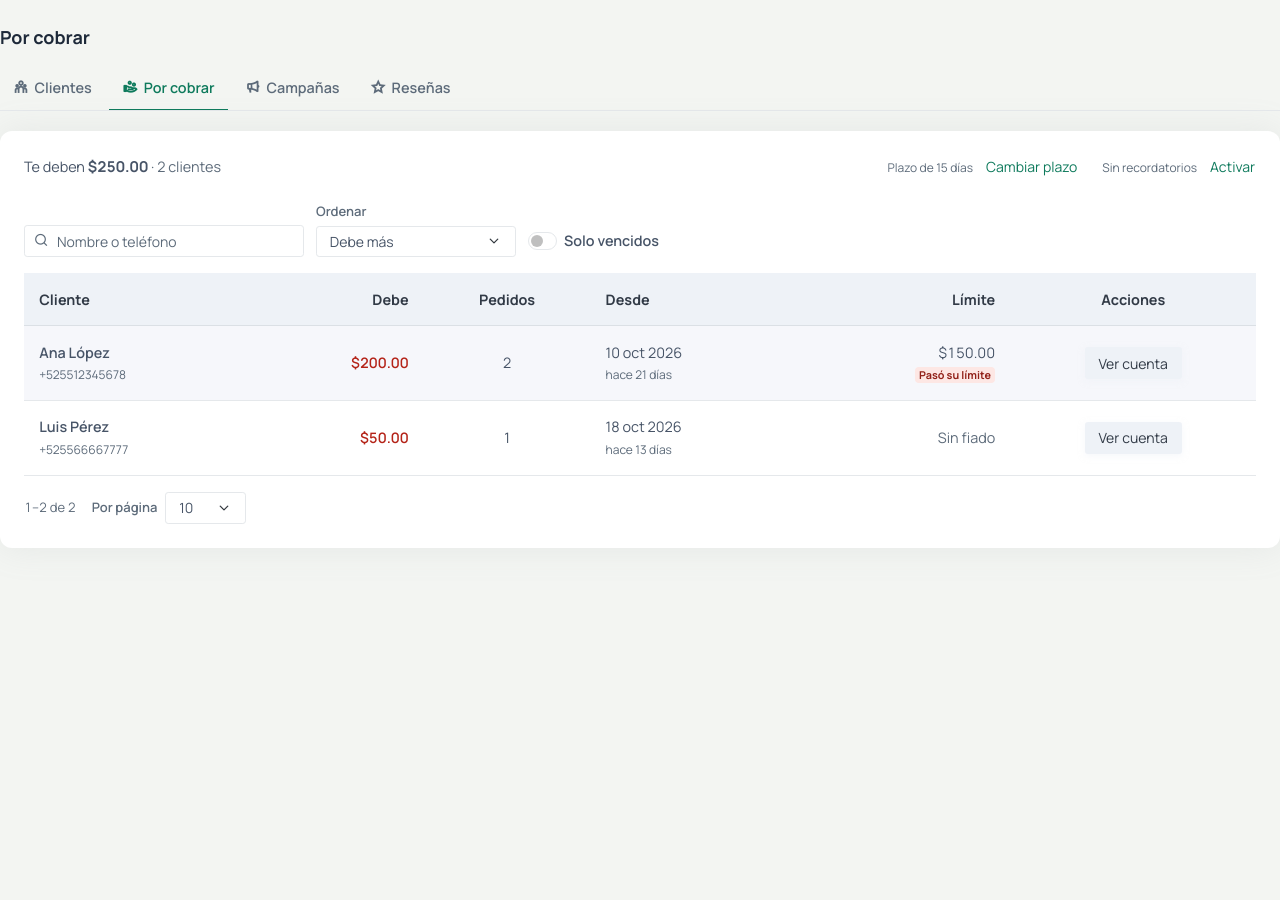
Scenario: ReceivablesPage › takes «Solo vencidos» off when the owner takes the term away, so the list does not stay empty
The image size is (1280, 900).
Click the switch labelled "Solo vencidos" at (542, 241), box [528,232,557,250]
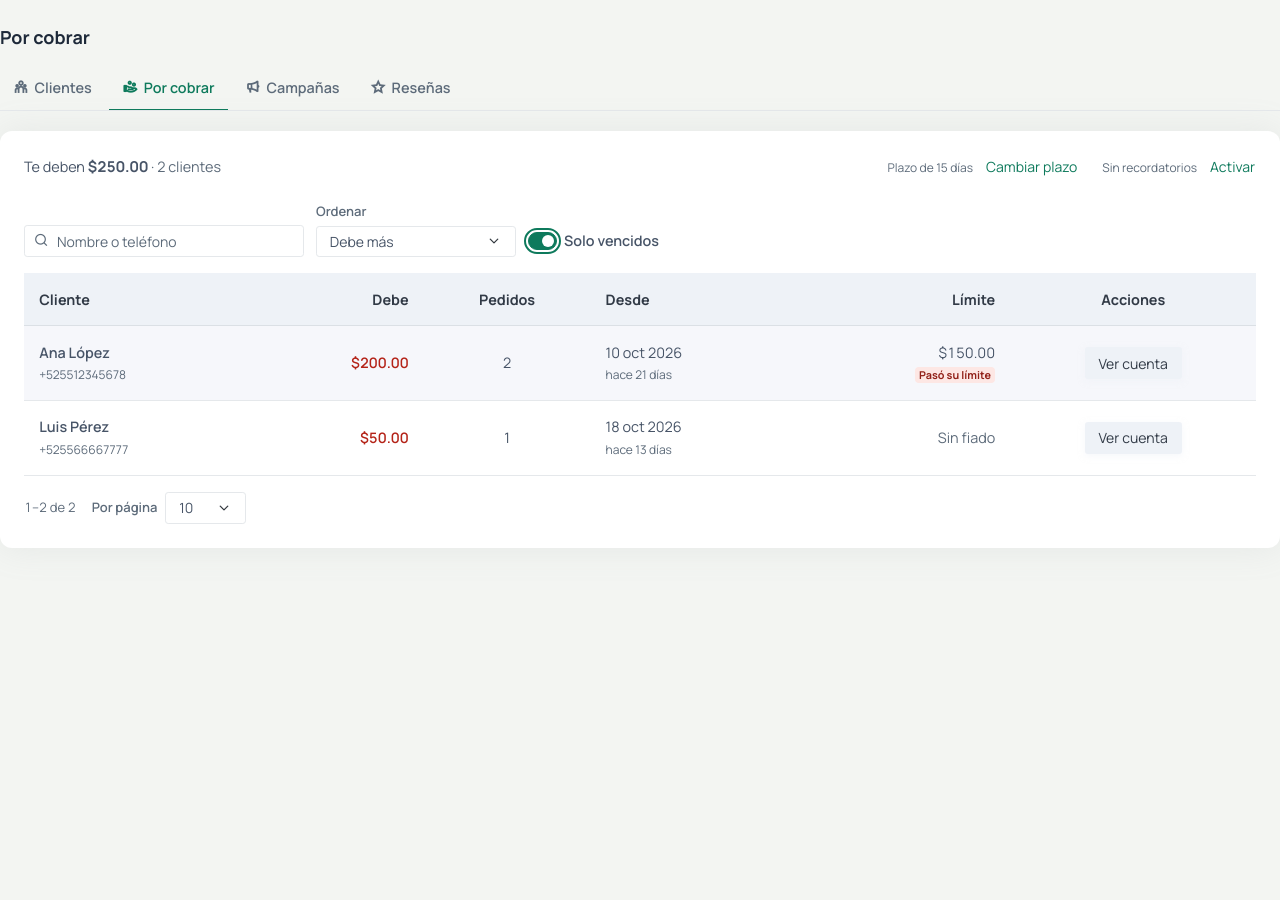
Click the button "Cambiar plazo" at (1032, 166), box [985,155,1078,178]
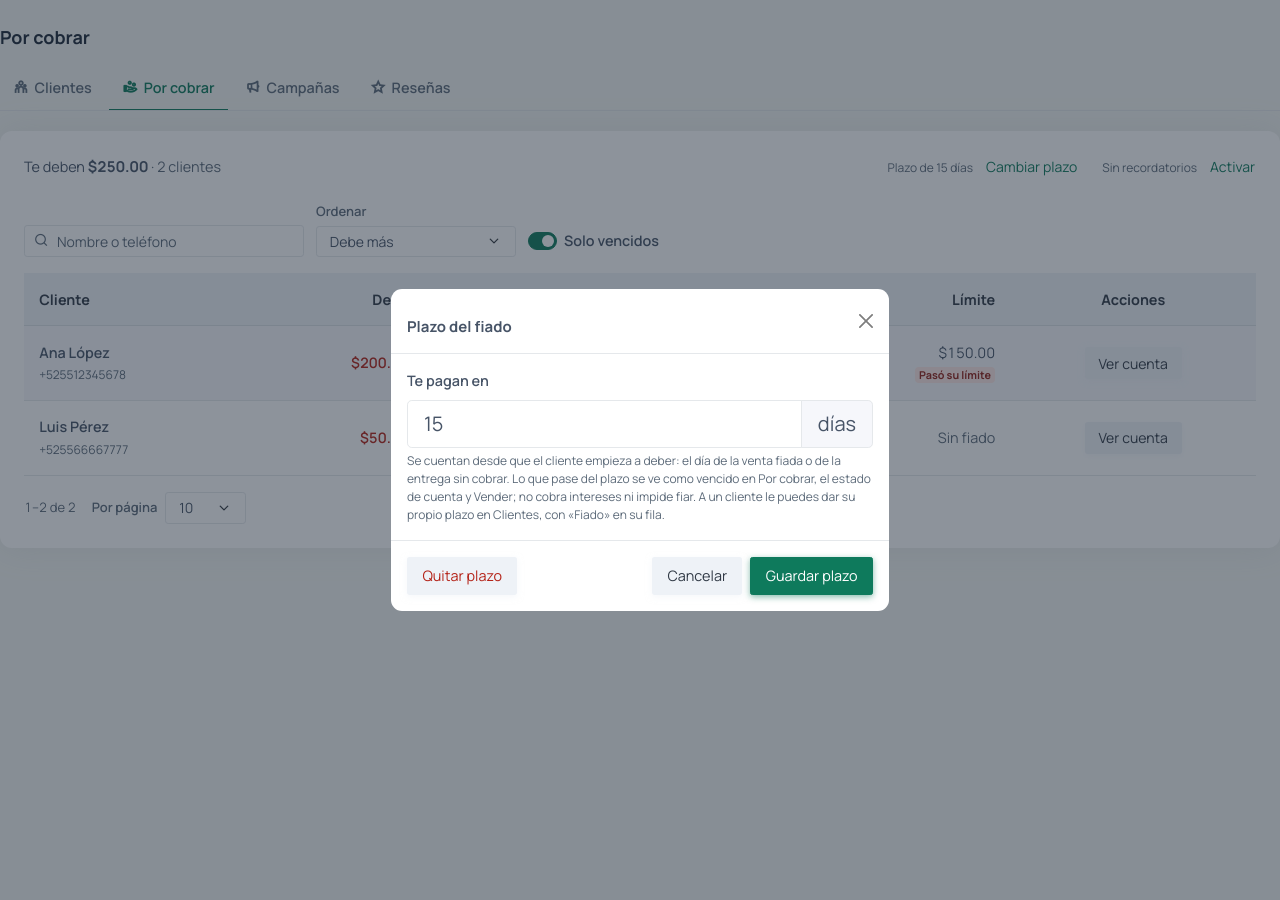
Click the button "Quitar plazo" at (462, 576), box [407,557,517,595]
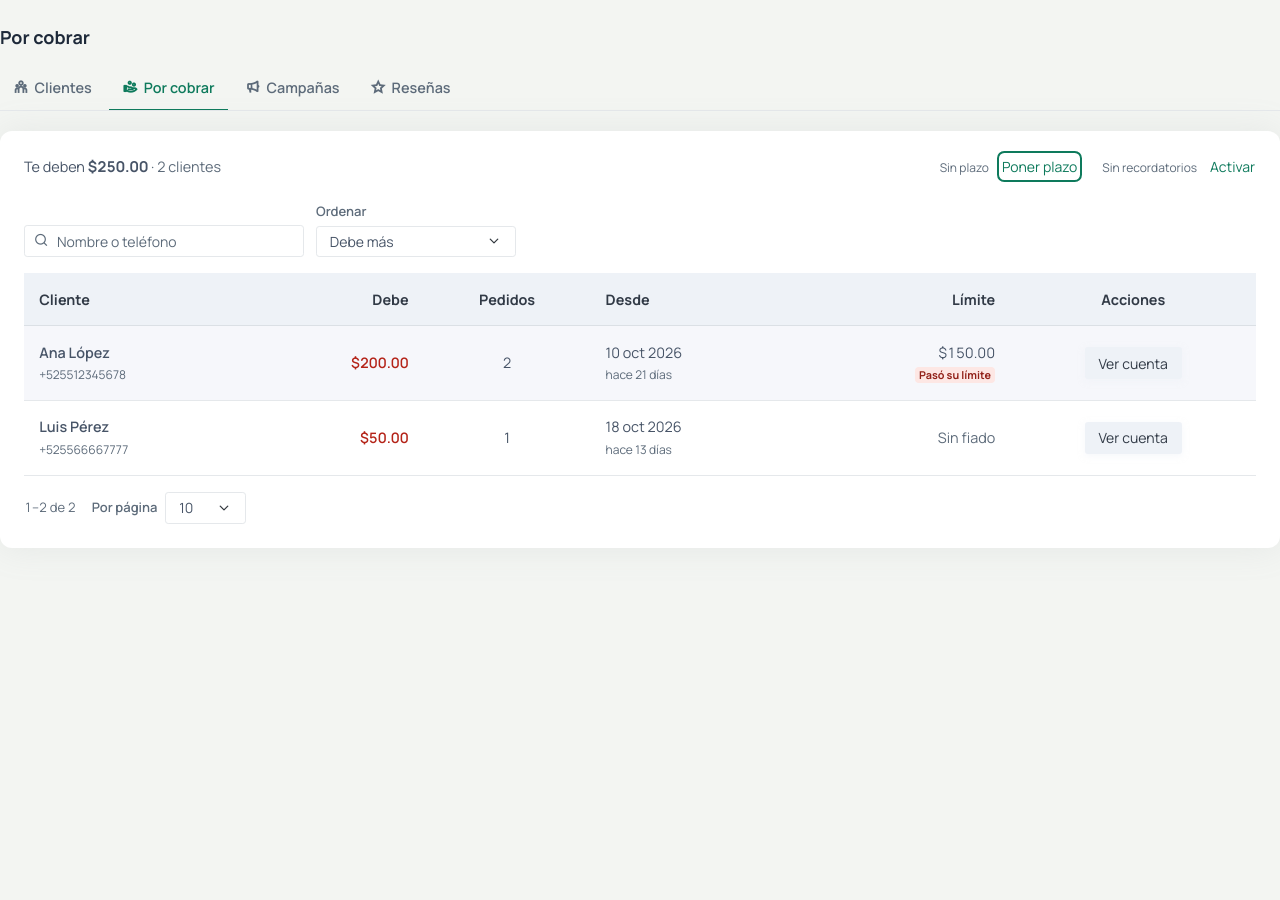
Expected: the text "Ana López" is shown, [39,343,110,362]
Expected: the text "Sin plazo" is shown, [940,159,989,176]
Expected: the label labelled "Solo vencidos" is gone
